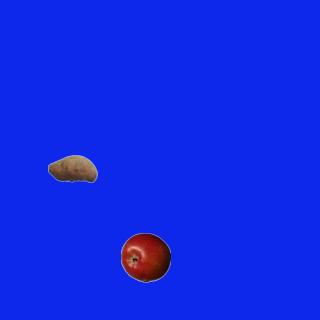Apple Braeburn: (120, 232, 170, 282)
Potato Sweet: (47, 143, 97, 193)
